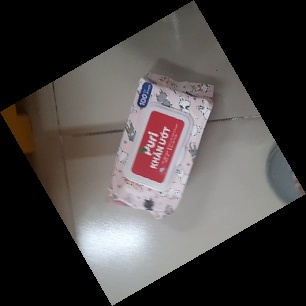Puri hong: (104, 73, 215, 219)
